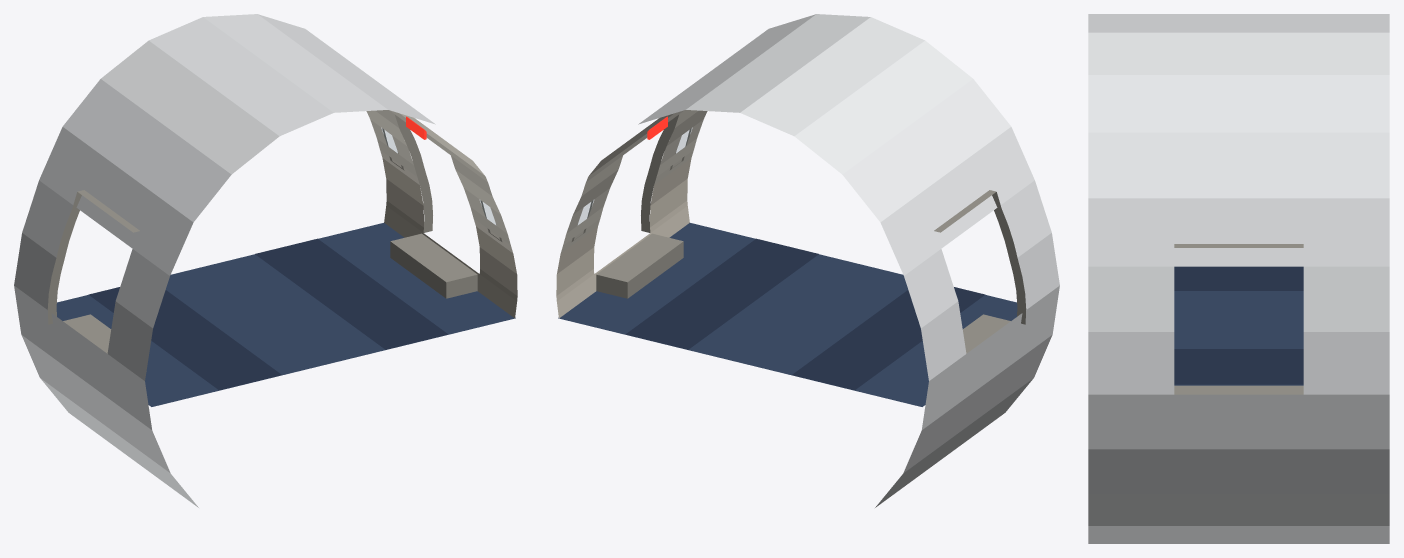
The model's file is ac_section_wing.glb.
3 renders of one model, left to right at view 1: azimuth 30°, elevation 25°; view 2: azimuth 150°, elevation 25°; view 3: azimuth 270°, elevation 25°, orthographic. The views are drawn at different scales.
Parts seen in each view (by area): view 1: ac_section_wing; view 2: ac_section_wing; view 3: ac_section_wing.
Boxes of the visible parts, x1,y1,x2,y2 form: ac_section_wing: (14,14,517,507); ac_section_wing: (556,14,1059,507); ac_section_wing: (1088,14,1389,543).
Size of the model in its own units: 6.12 by 6.47 by 3.6.
